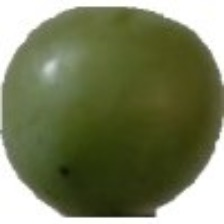grapes: (22, 14, 179, 187)
